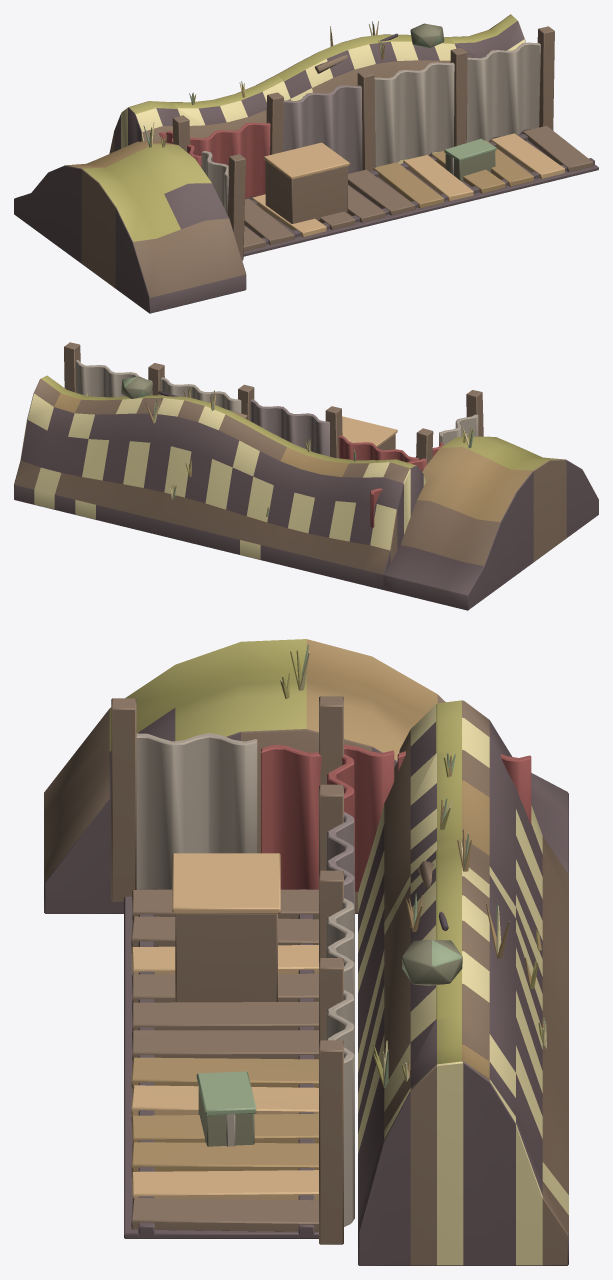
The model's file is trench_parapet_v2.glb.
The picture shows the model from 3 angles, top to bottom: view 1: azimuth 30°, elevation 25°; view 2: azimuth 150°, elevation 25°; view 3: azimuth 270°, elevation 25°; orthographic projection. The views are drawn at different scales.
Visible parts, largest first — view 1: Body; view 2: Body; view 3: Body.
Part boxes in pixels (x1,y1,x2,y2): Body: [14, 14, 598, 313]; Body: [14, 342, 598, 610]; Body: [44, 639, 568, 1265].
Size of the model in its own units: 0.9327 by 0.2578 by 0.46.
